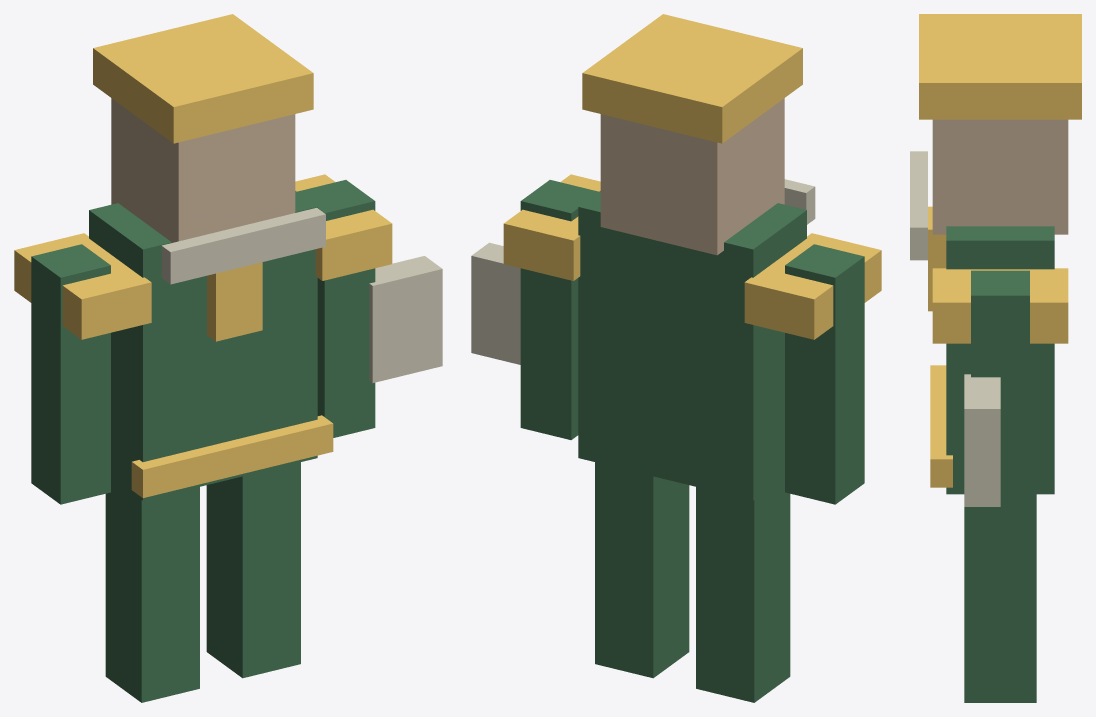
The model's file is 11_pax_emberkin_cartographer_at_meditation.glb.
3 views of the same model, side by side, from view 1: azimuth 30°, elevation 25°; view 2: azimuth 150°, elevation 25°; view 3: azimuth 270°, elevation 25° (orthographic).
Visible parts, largest first — view 1: Pax Emberkin, Cartographer at Meditation; view 2: Pax Emberkin, Cartographer at Meditation; view 3: Pax Emberkin, Cartographer at Meditation.
Part boxes in pixels (x1,y1,x2,y2): Pax Emberkin, Cartographer at Meditation: (14,14,442,702); Pax Emberkin, Cartographer at Meditation: (471,14,881,702); Pax Emberkin, Cartographer at Meditation: (910,14,1081,702).
Size of the model in its own units: 0.9251 by 1.42 by 0.3606.
